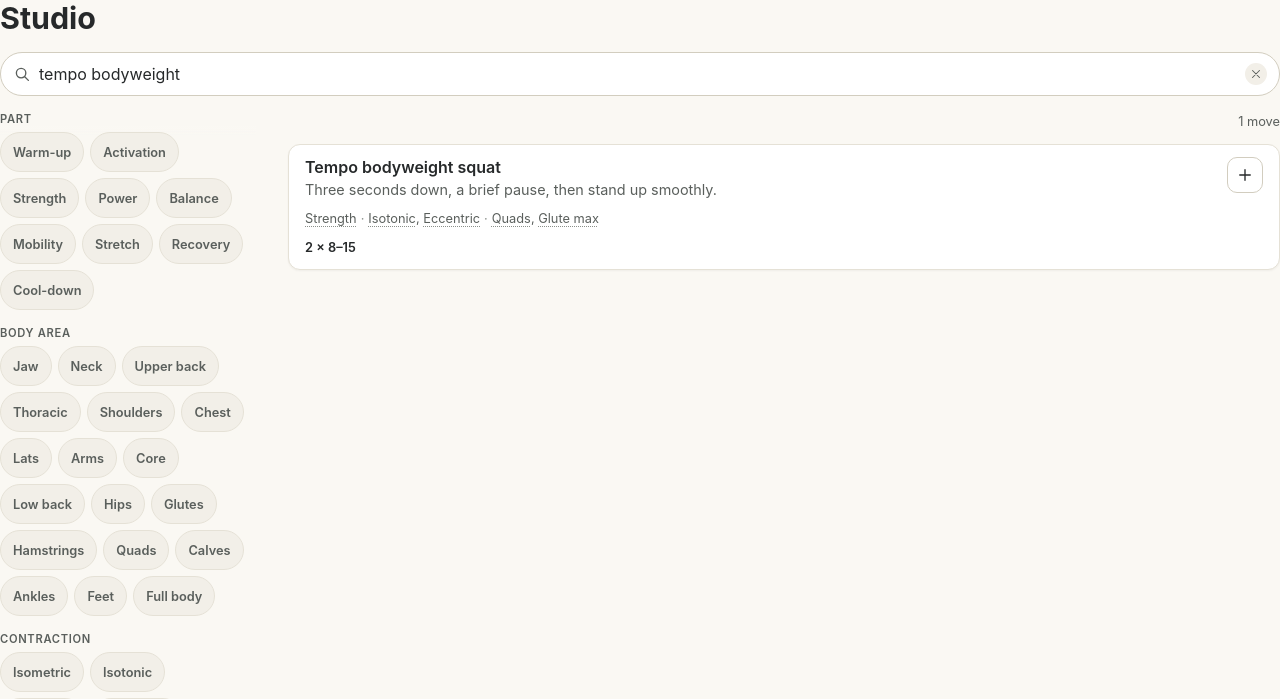
Scenario: on a phone: a sheet over the list › Easier swaps the move in place, one entry deeper; ✕ goes back past both to the list
What coordinates should you click on to do the following:
click the link with class "stu-move-open"
I would click on:
 (403, 167)
Its box is [305,157,501,177].
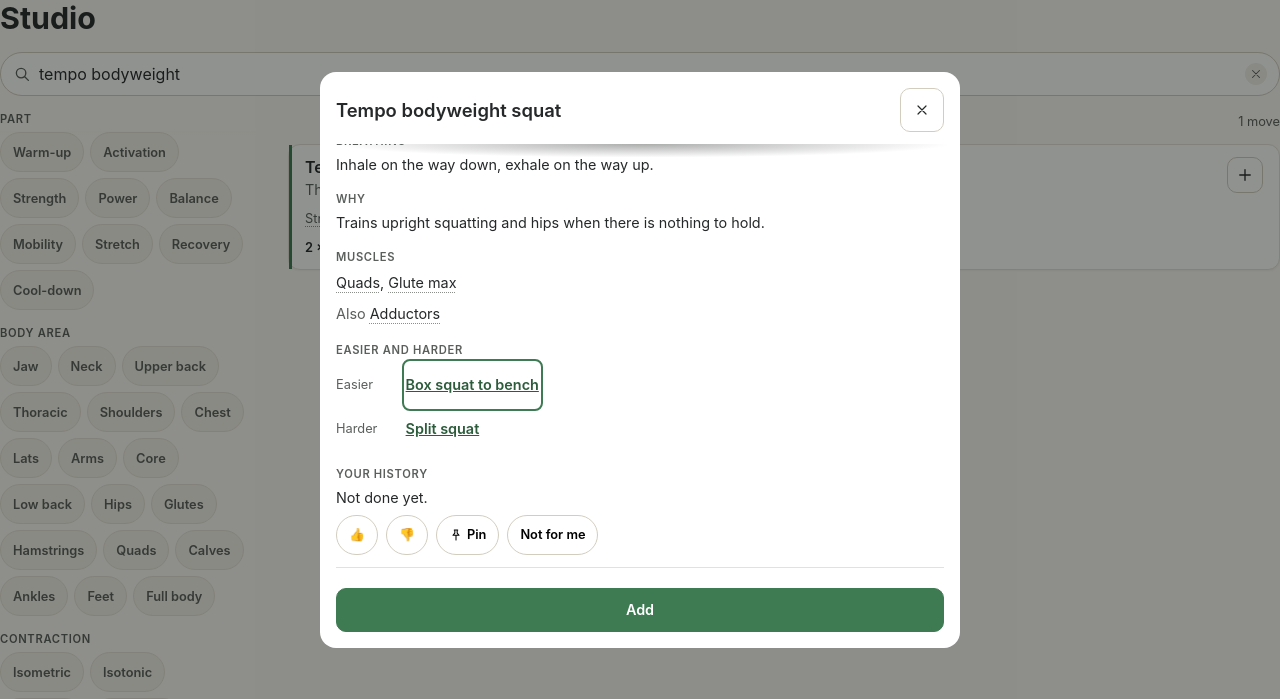
What coordinates should you click on to do the following:
click the link with class "stu-ladder-link" showing "Box squat to bench"
I would click on:
 (472, 385)
Its box is [406,376,539,393].
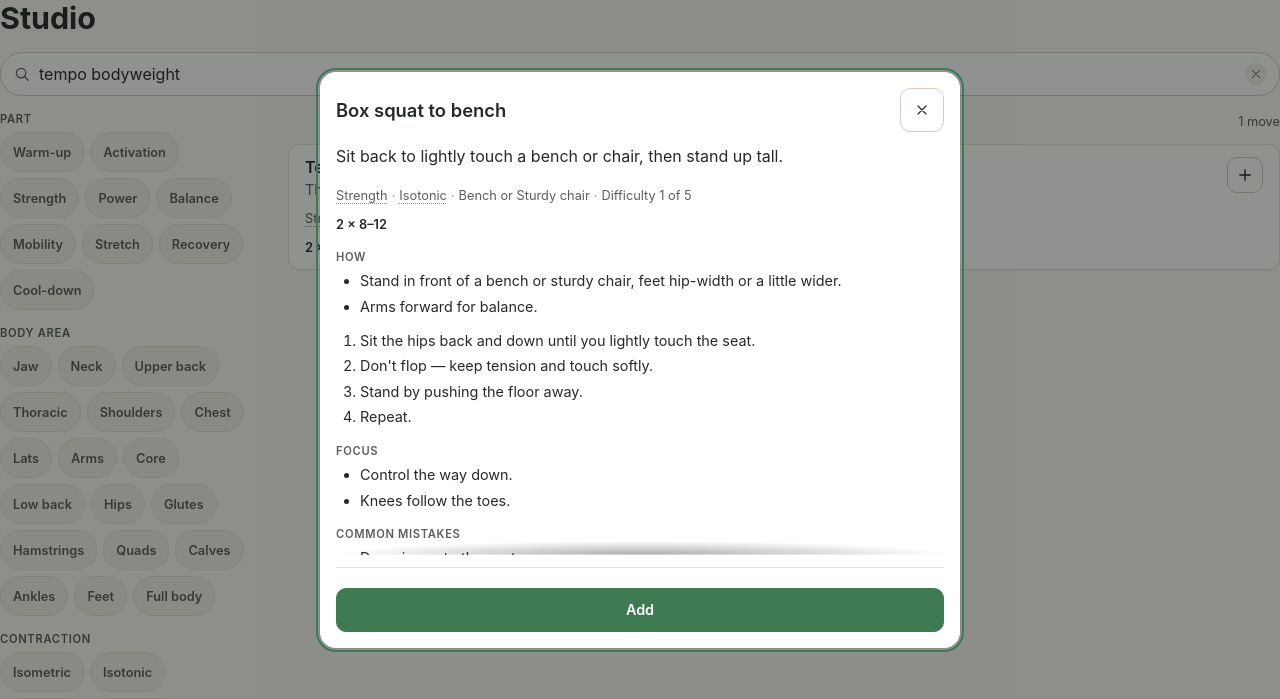
Check: the heading "Box squat to bench" is shown, box [336,98,506,122]
What coordinates should you click on to do the following:
click the button named "Close"
I would click on:
 (922, 110)
Its box is [900,88,944,132].
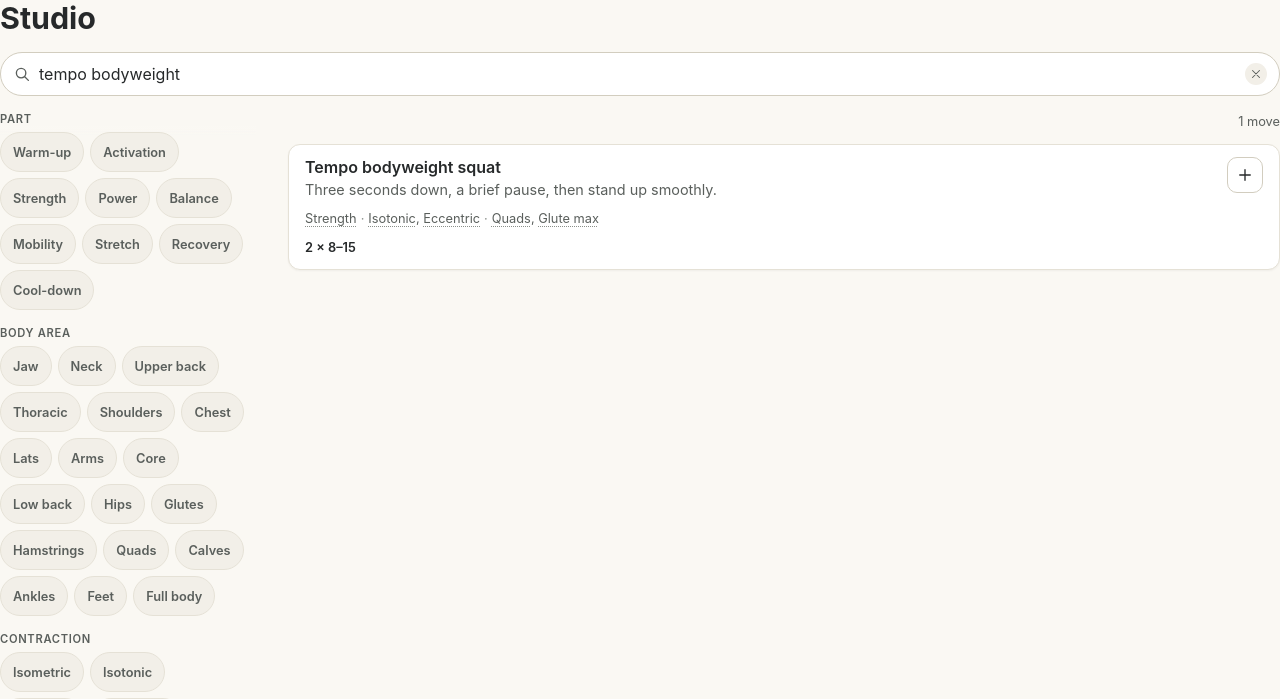
Check: the dialog is gone
